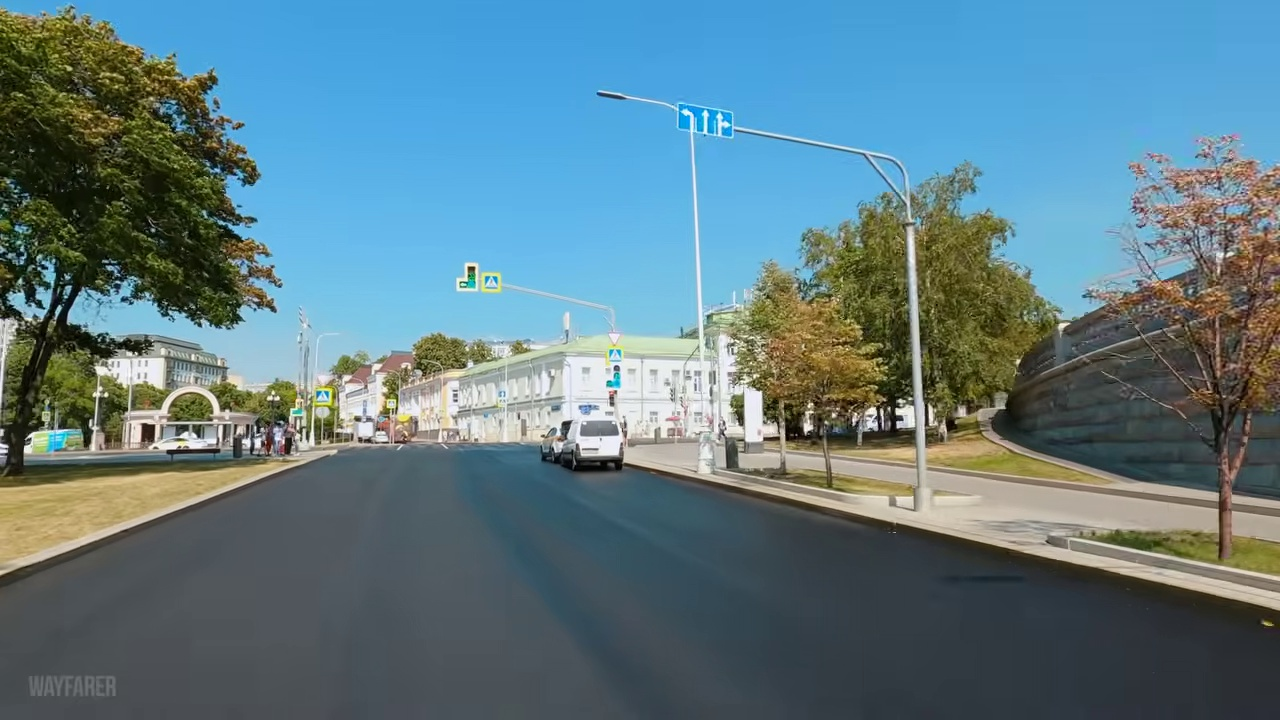apagada: (593, 86, 625, 108)
